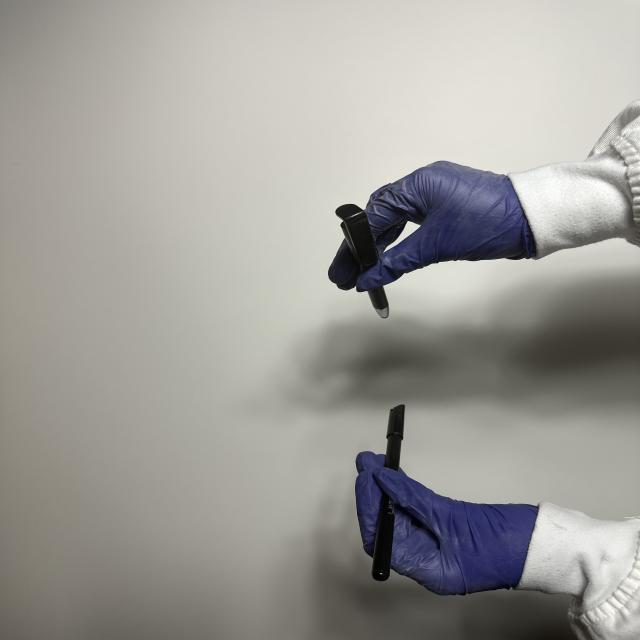gloves_contaminated: (329, 162, 535, 291), (356, 452, 541, 595)
